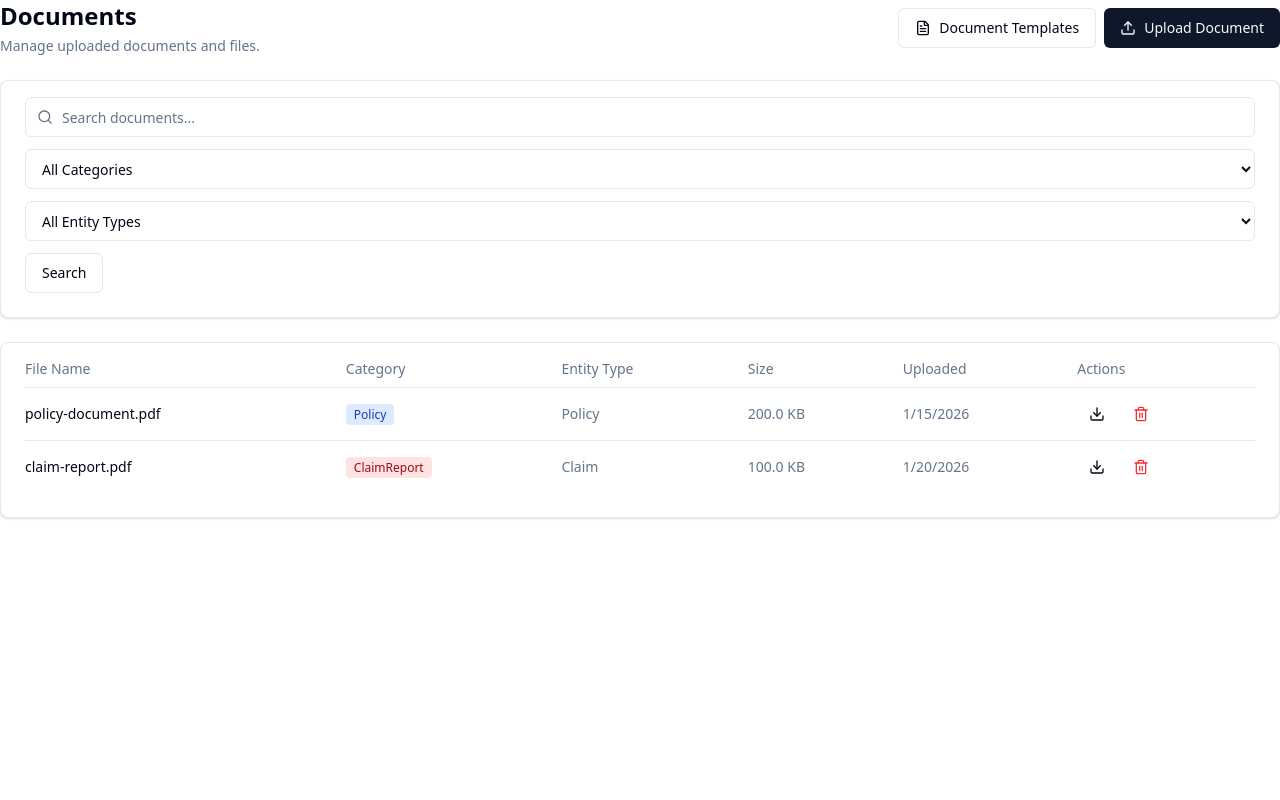
DocumentsPage › opens upload dialog when upload button is clicked
The image size is (1280, 800).
Click the button "Upload Document": (1192, 28) top-left (1104, 8), bottom-right (1279, 48)
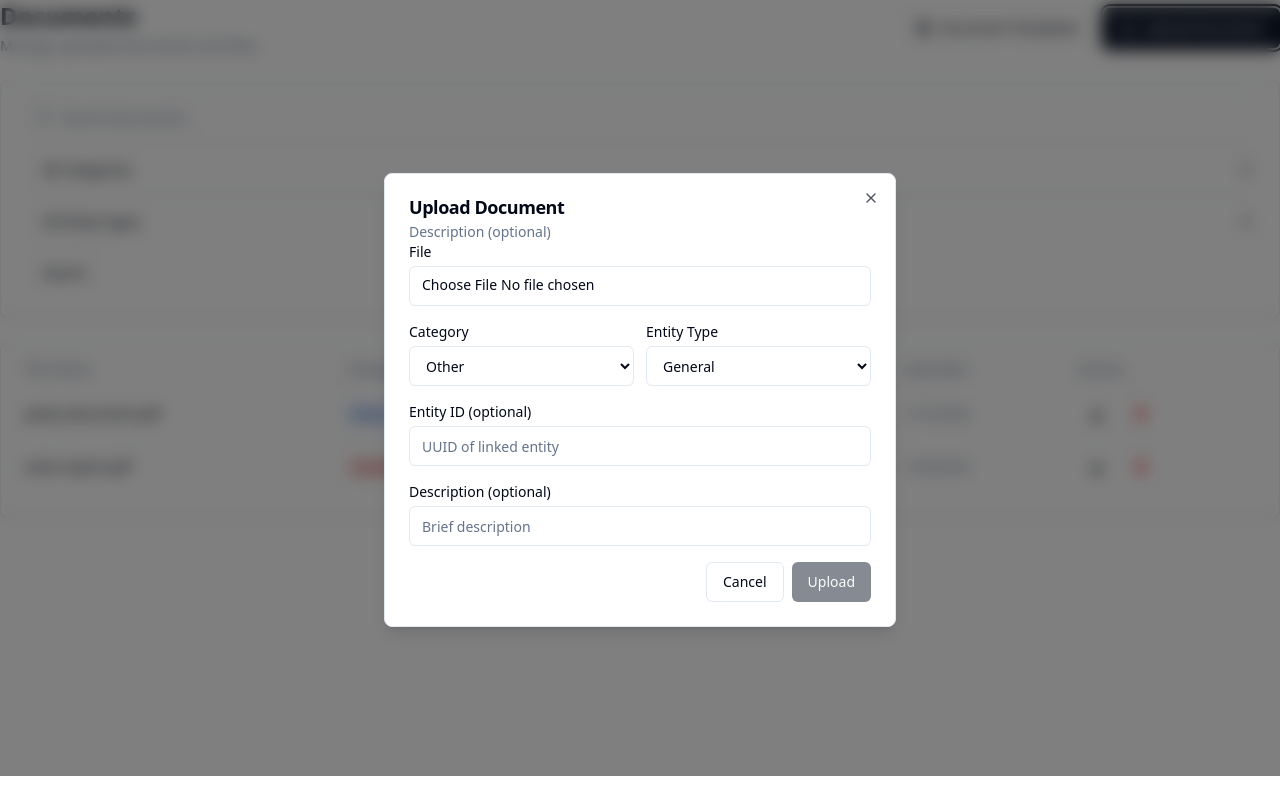
Check: the heading "Upload Document" is shown, box top-left (409, 195), bottom-right (564, 219)
